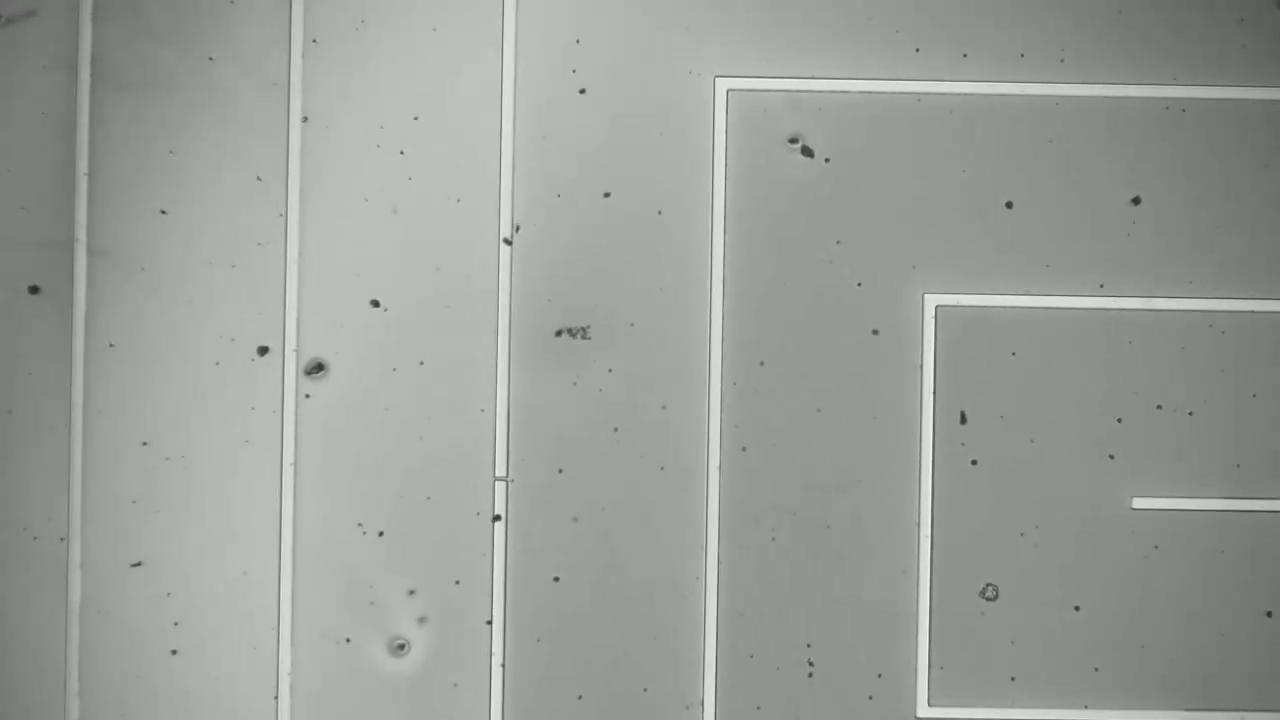open: (487, 463, 517, 494)
stains_enbedded: (483, 502, 519, 531), (492, 221, 521, 254)
